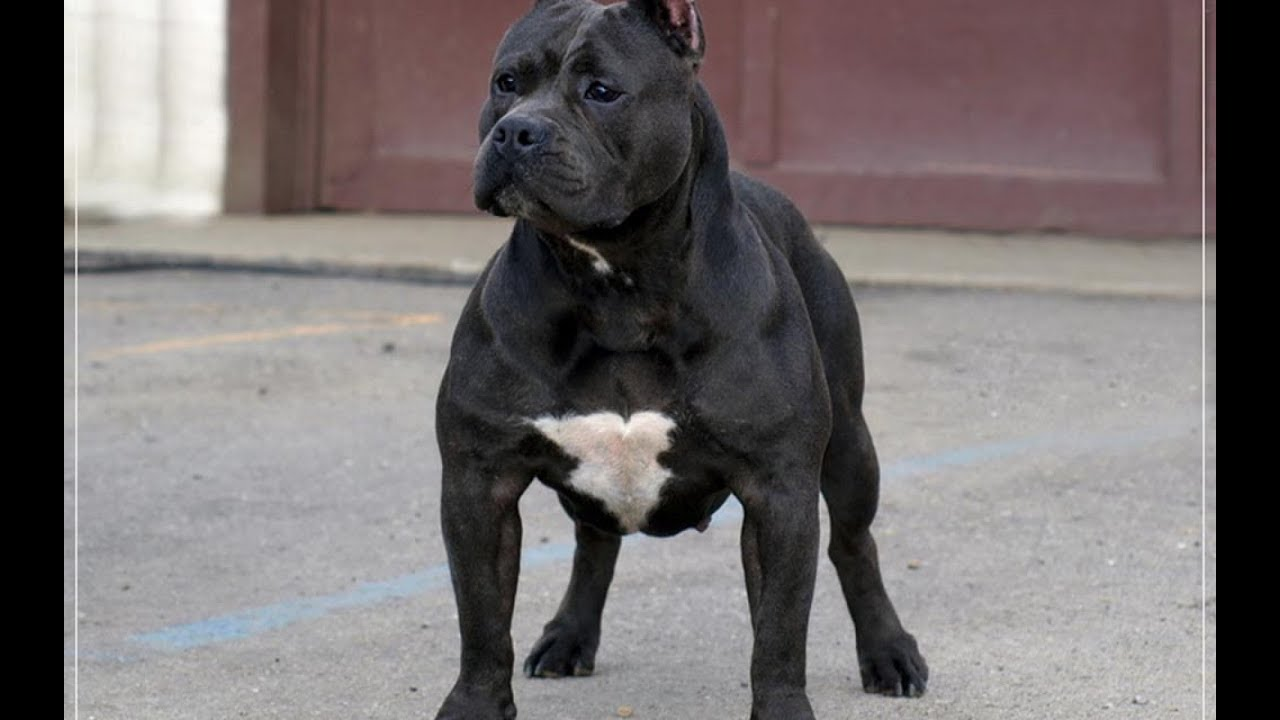am_pit_bull_terrier: (429, 1, 934, 717)
